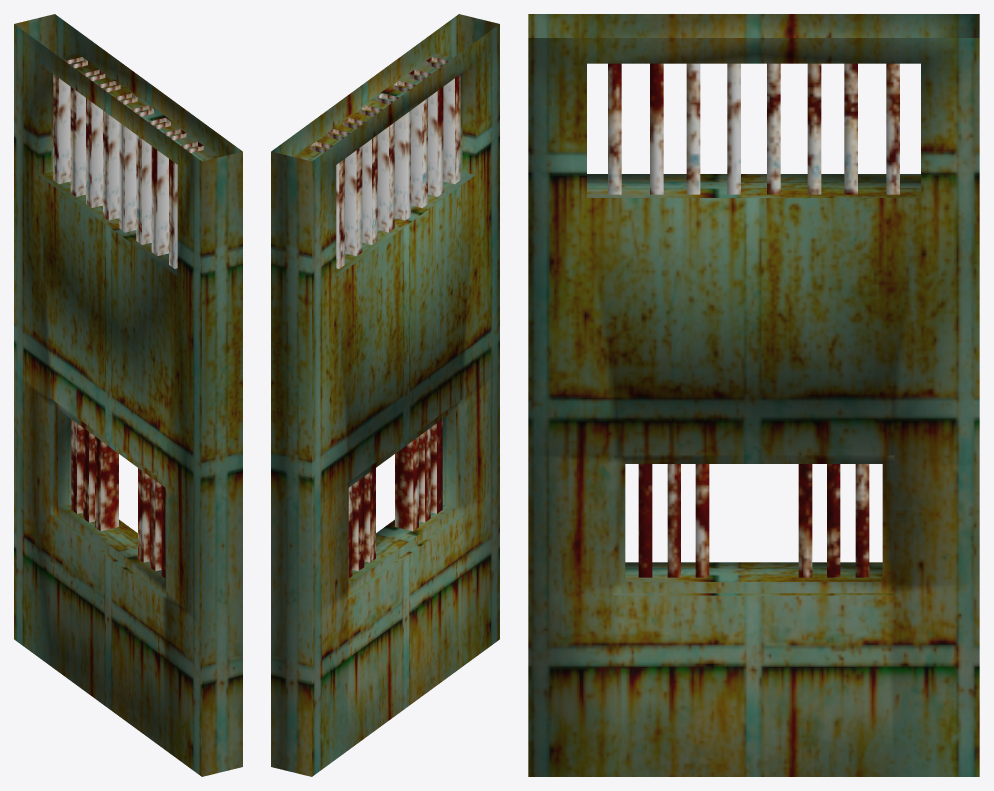
Rendered from door.glb.
The picture shows the model from 3 angles, left to right: view 1: azimuth 30°, elevation 25°; view 2: azimuth 150°, elevation 25°; view 3: azimuth 270°, elevation 25°; orthographic projection. The views are drawn at different scales.
Parts seen in each view (by area): view 1: door; view 2: door; view 3: door.
Boxes of the visible parts, box(x1,y1,x2,y2) form: door: box(14, 14, 242, 776); door: box(271, 14, 499, 776); door: box(528, 14, 979, 776).
Size of the model in its own units: 0.1764 by 2.54 by 1.4.
2 materials, 2 textured.
